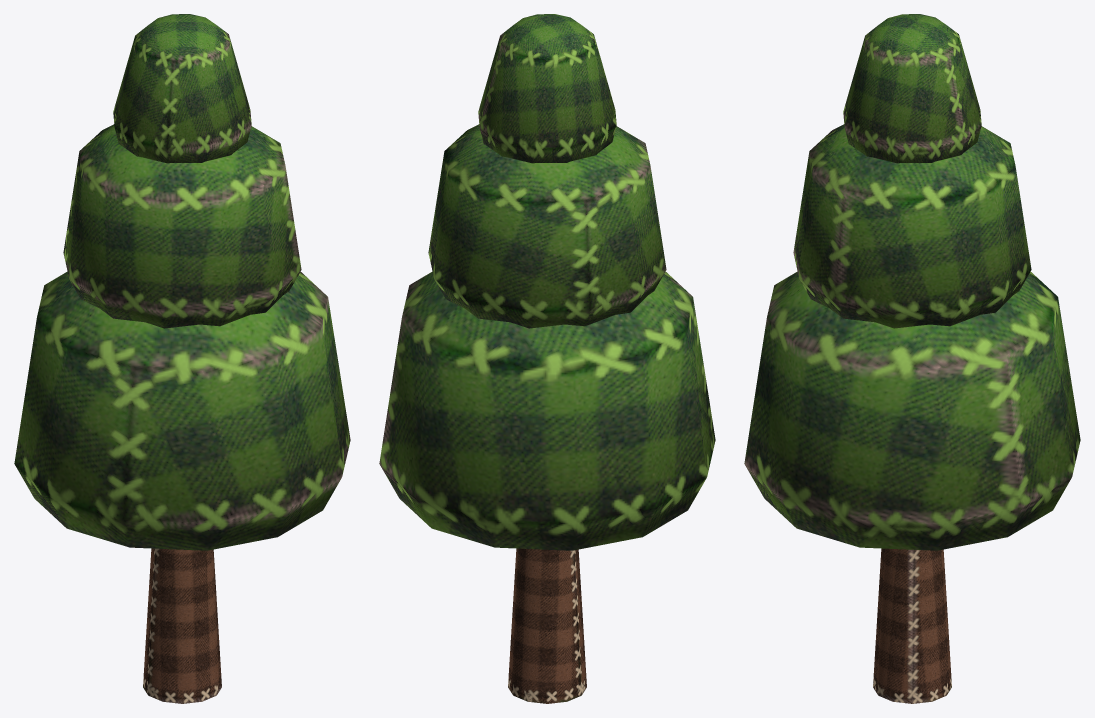
Rendered from lpb_cs_tree8.fbx.
The picture shows the model from 3 angles, left to right: view 1: azimuth 30°, elevation 25°; view 2: azimuth 150°, elevation 25°; view 3: azimuth 270°, elevation 25°; orthographic projection.
Parts seen in each view (by area): view 1: lpb_cs_tree8; view 2: lpb_cs_tree8; view 3: lpb_cs_tree8.
Part boxes in pixels (bbox=[...]): lpb_cs_tree8: bbox=[14, 14, 350, 703]; lpb_cs_tree8: bbox=[379, 14, 715, 703]; lpb_cs_tree8: bbox=[744, 14, 1080, 703].
Bounding box in the file's own units: 89.5 × 195 × 89.5.
